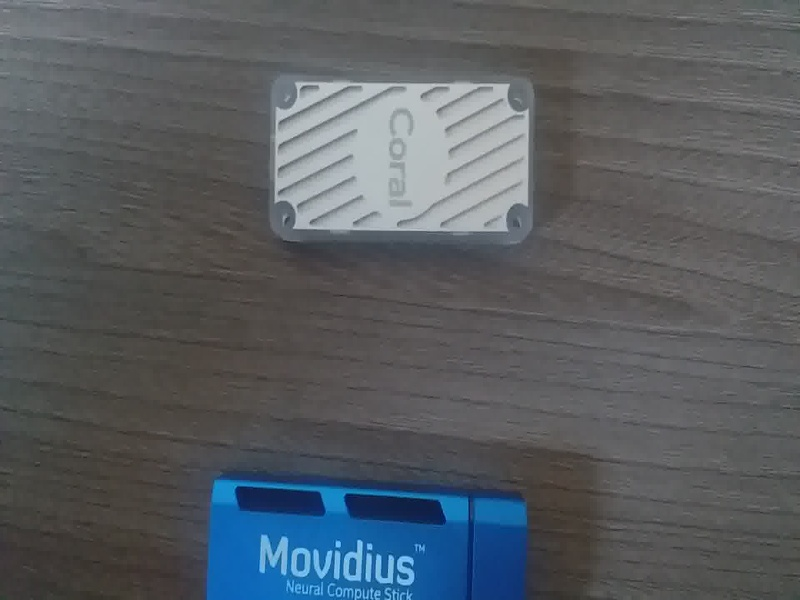coral: (251, 68, 553, 252)
movidius: (197, 461, 540, 600)
